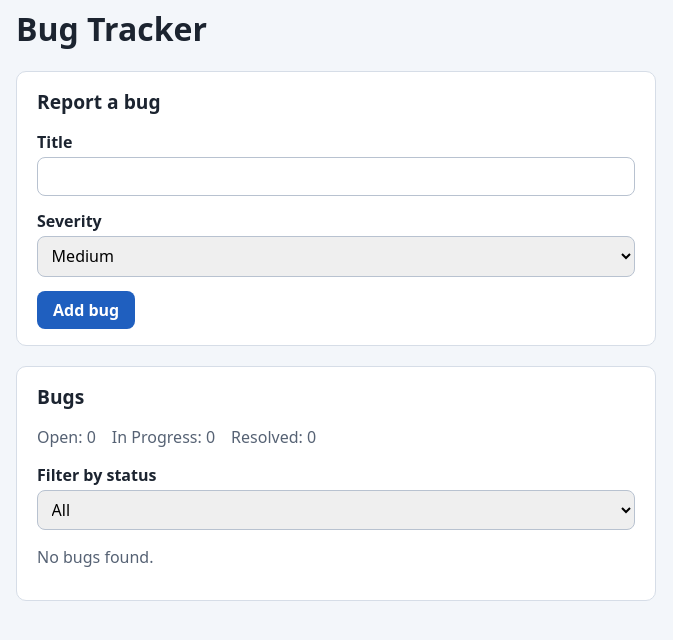
Scenario: Bug Tracker › adds a bug and shows it in the list
Type "Login button is broken" into the field labelled "Title".
click(336, 177); type("Login button is broken")  # box [37,157,635,196]
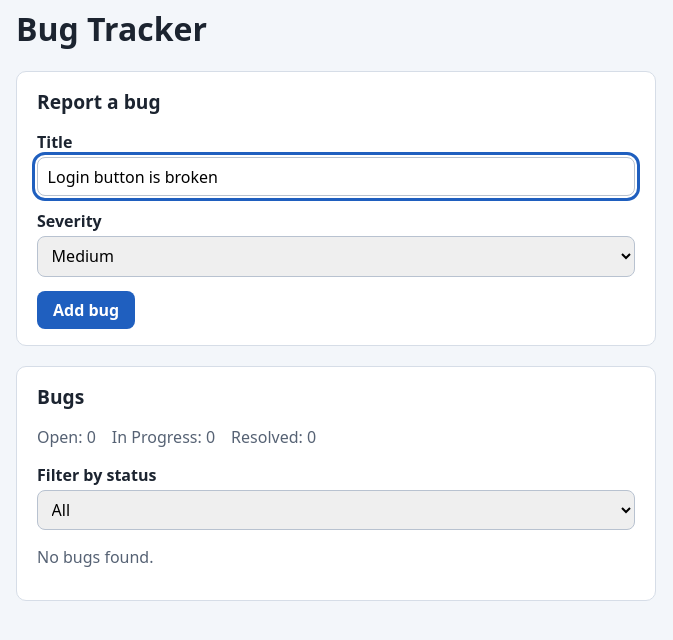
Click the button "Add bug".
click(86, 310)  # box [37,291,135,329]
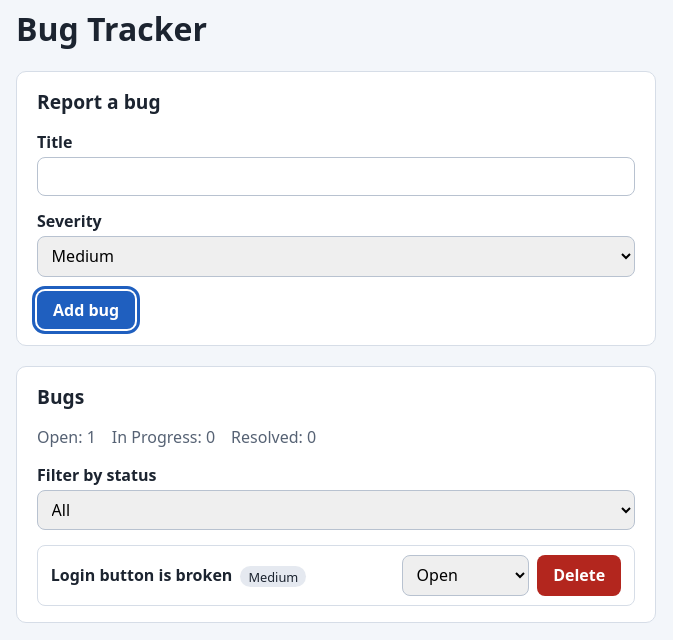
Expected: the text "Login button is broken" is shown, [51,564,232,586]
Expected: the list item "Open: 1" is shown, [37,426,96,448]
